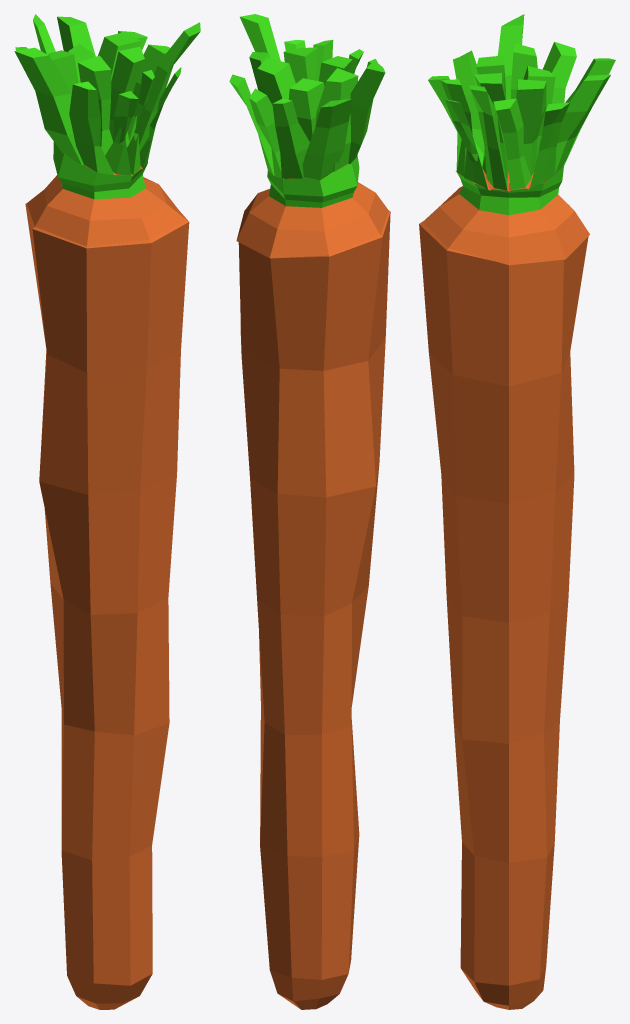
Rendered from carrot.fbx.
The picture shows the model from 3 angles, left to right: view 1: azimuth 30°, elevation 25°; view 2: azimuth 150°, elevation 25°; view 3: azimuth 270°, elevation 25°; orthographic projection.
Visible parts, largest first — view 1: Цилиндр; view 2: Цилиндр; view 3: Цилиндр.
Part boxes in pixels (bbox=[...]): Цилиндр: bbox=[14, 14, 200, 1009]; Цилиндр: bbox=[229, 14, 390, 1009]; Цилиндр: bbox=[419, 14, 615, 1009].
Bounding box in the file's own units: 39.39 × 219 × 41.04.
